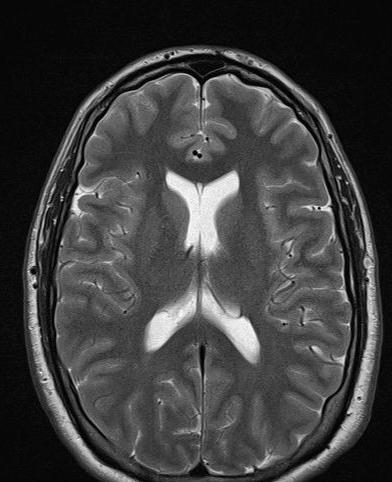Normal_Brain: (1, 1, 392, 482)
